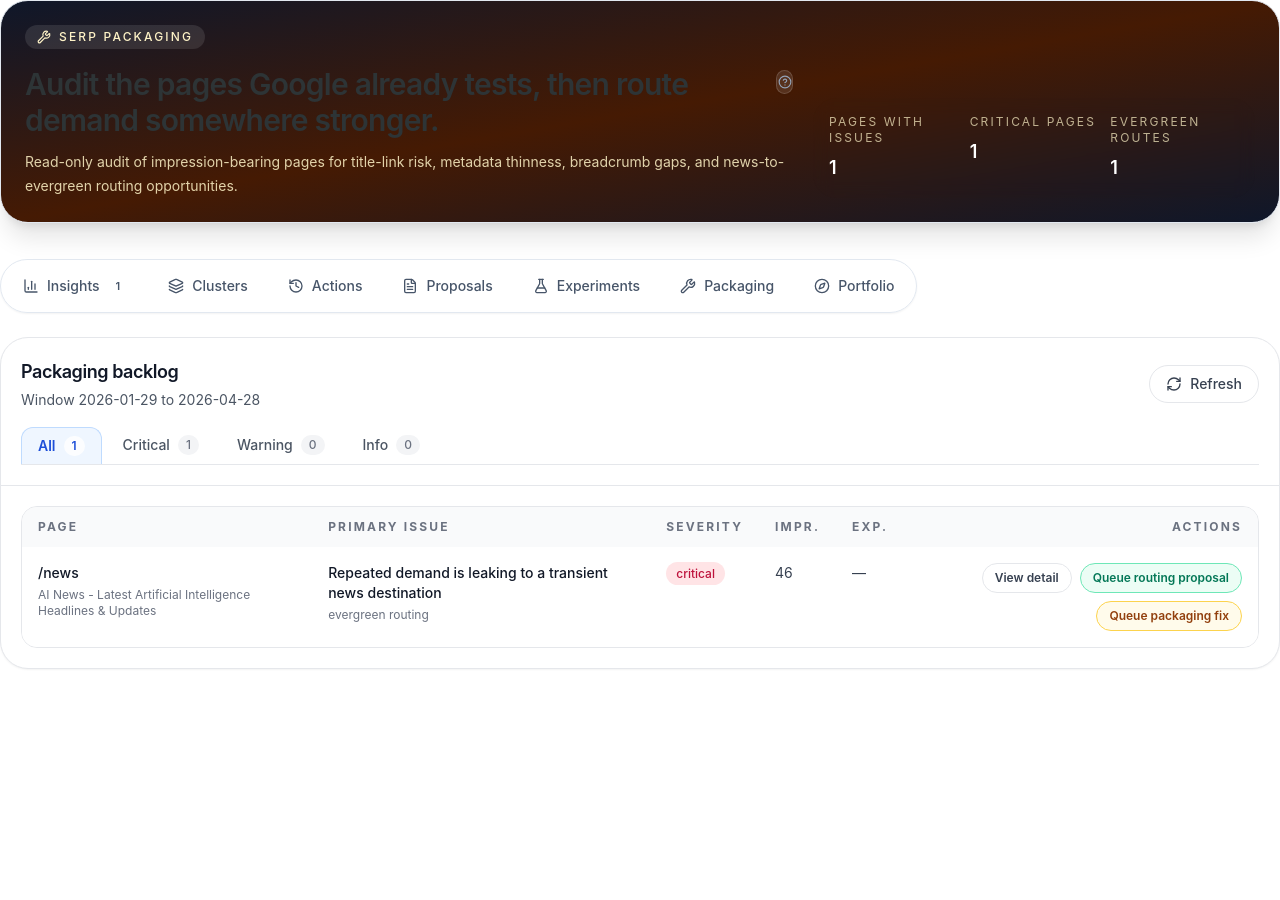
Test: SeoPackagingPage › routes to the existing proposal when the backend duplicate guard returns proposal details
This screenshot has width=1280, height=900.
Expected: the text "/news" is shown, [38,564,79,581]
Click the button "Queue packaging fix": (1169, 616) [1096,601,1242,631]
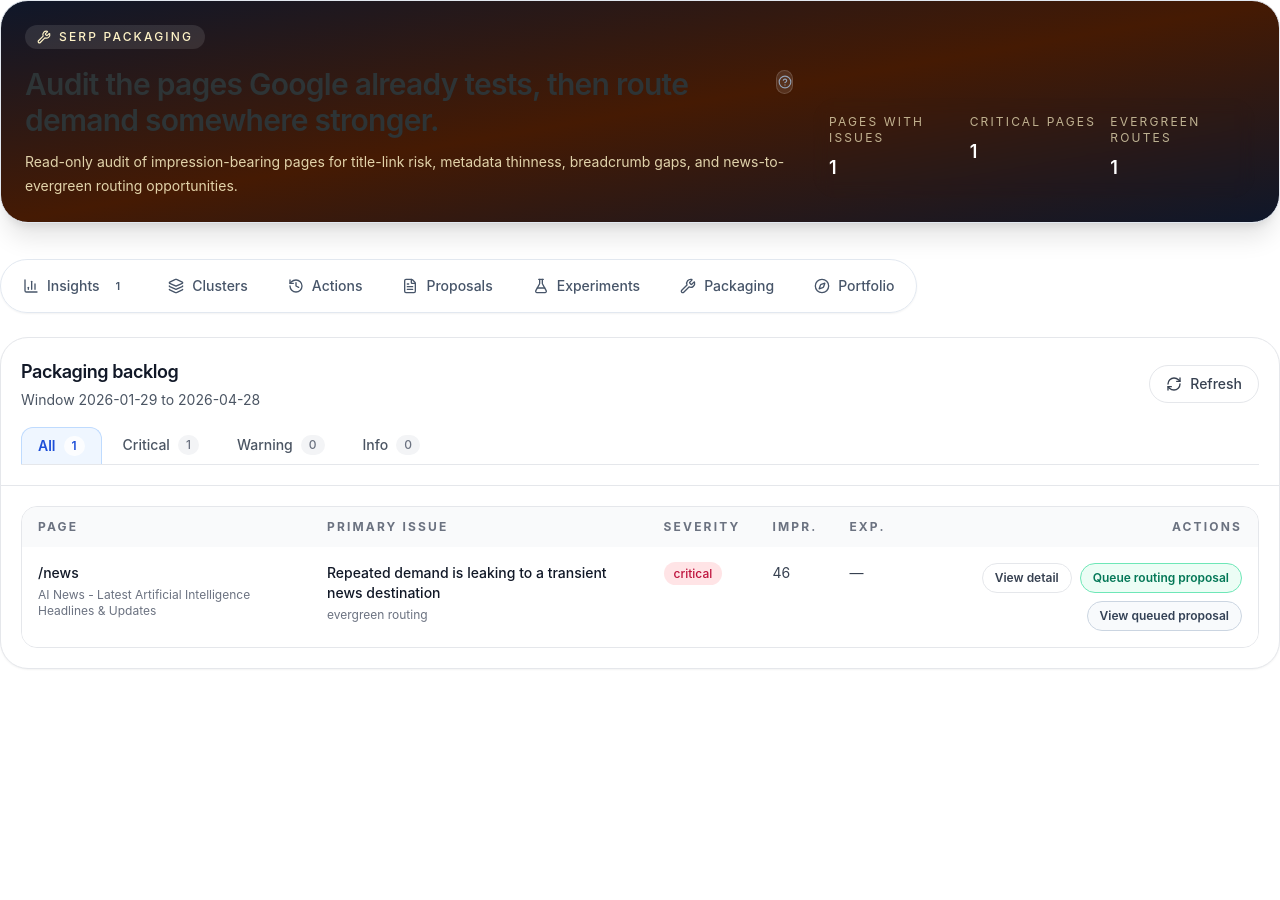
Now the button "View queued proposal" is shown, box [1086,601,1242,631]
